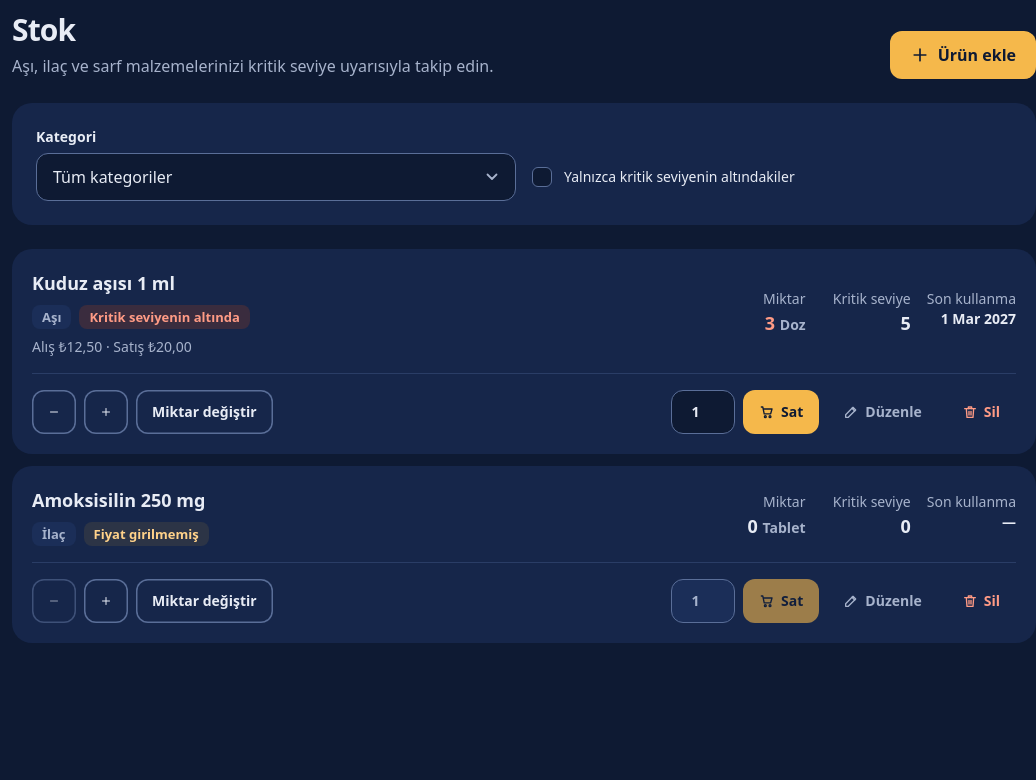
Test: StockPage — hızlı miktar › −1 isteği gönderir ve yeni miktarı gösterir
Click the button named "Kuduz aşısı 1 ml miktarını 1 azalt" at [54, 412], box [32,390,76,434]
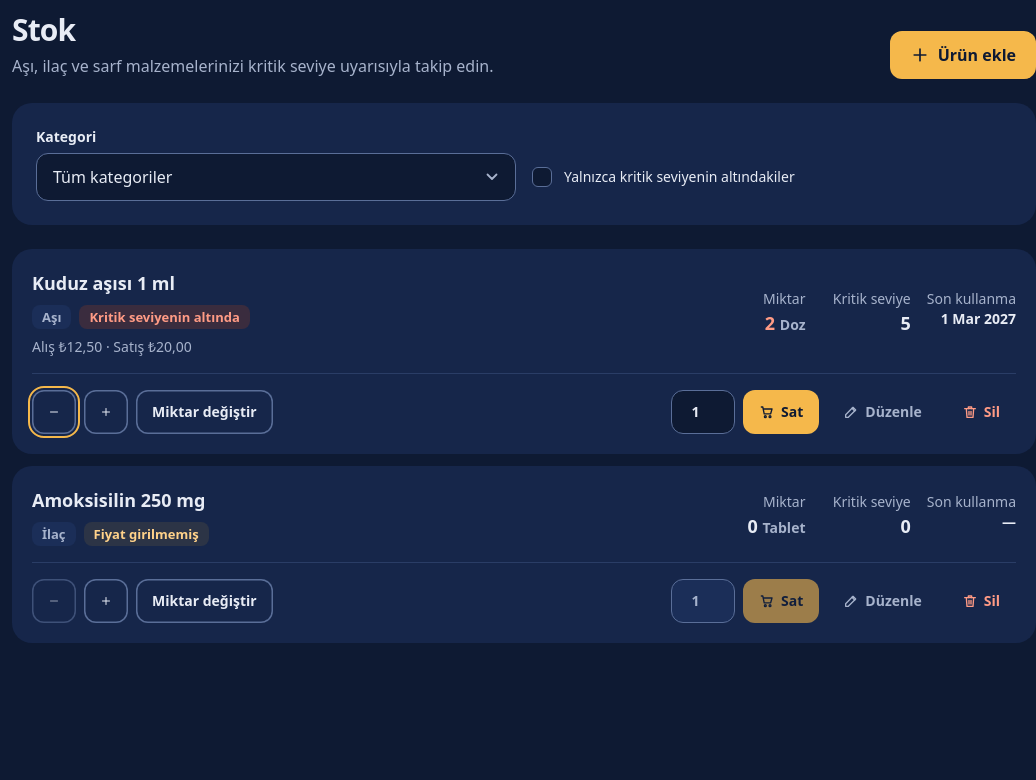
Expected: the text "2" is shown, [765,311,775,335]
